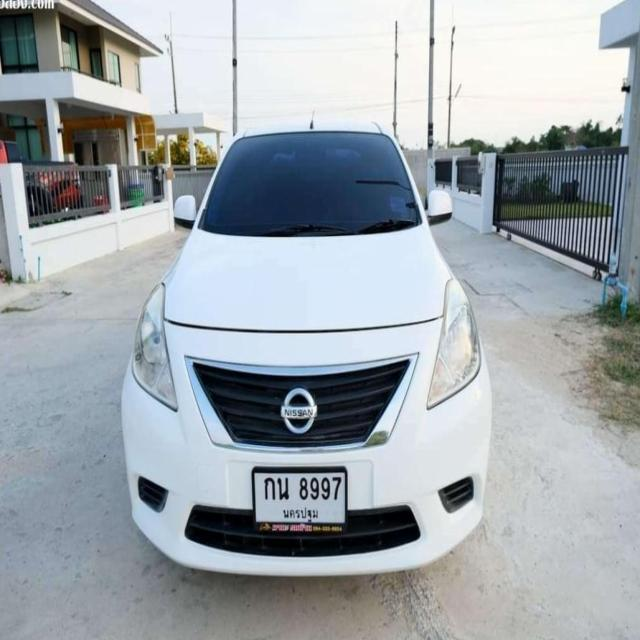license_plate: (250, 462, 348, 537)
